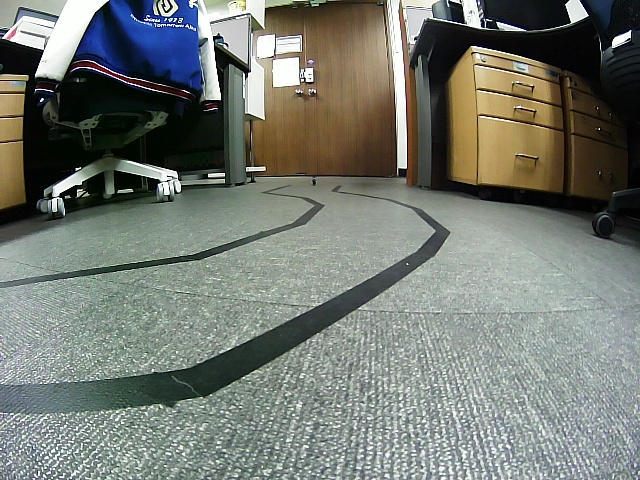person: (311, 177, 317, 186)
